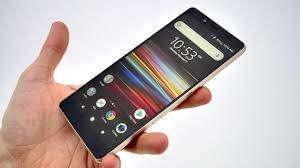sony: (56, 7, 246, 159)
